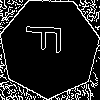F: (25, 23, 71, 55)
